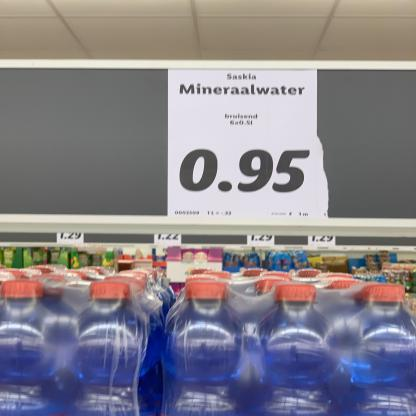prtg: (169, 70, 321, 219)
